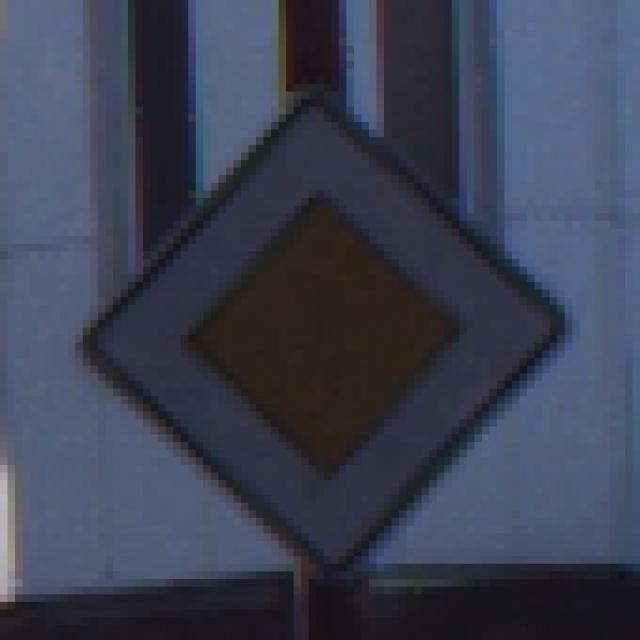Main Road: (62, 54, 589, 588)
